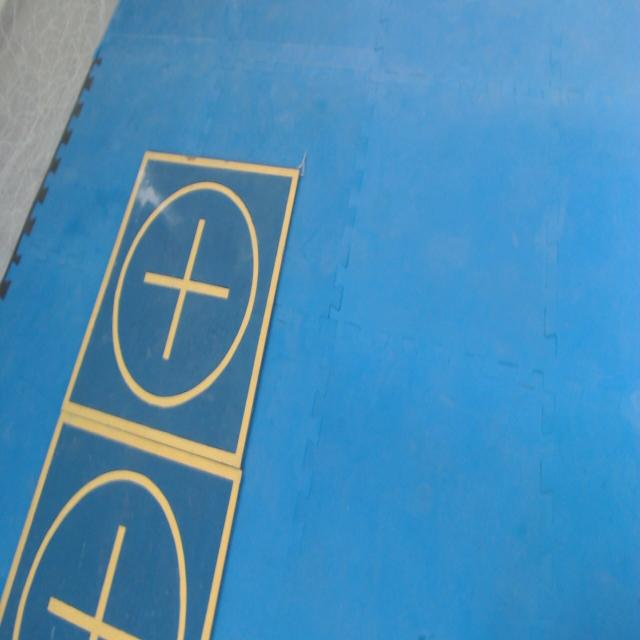base_pouso: (62, 154, 302, 472), (0, 408, 244, 639)
